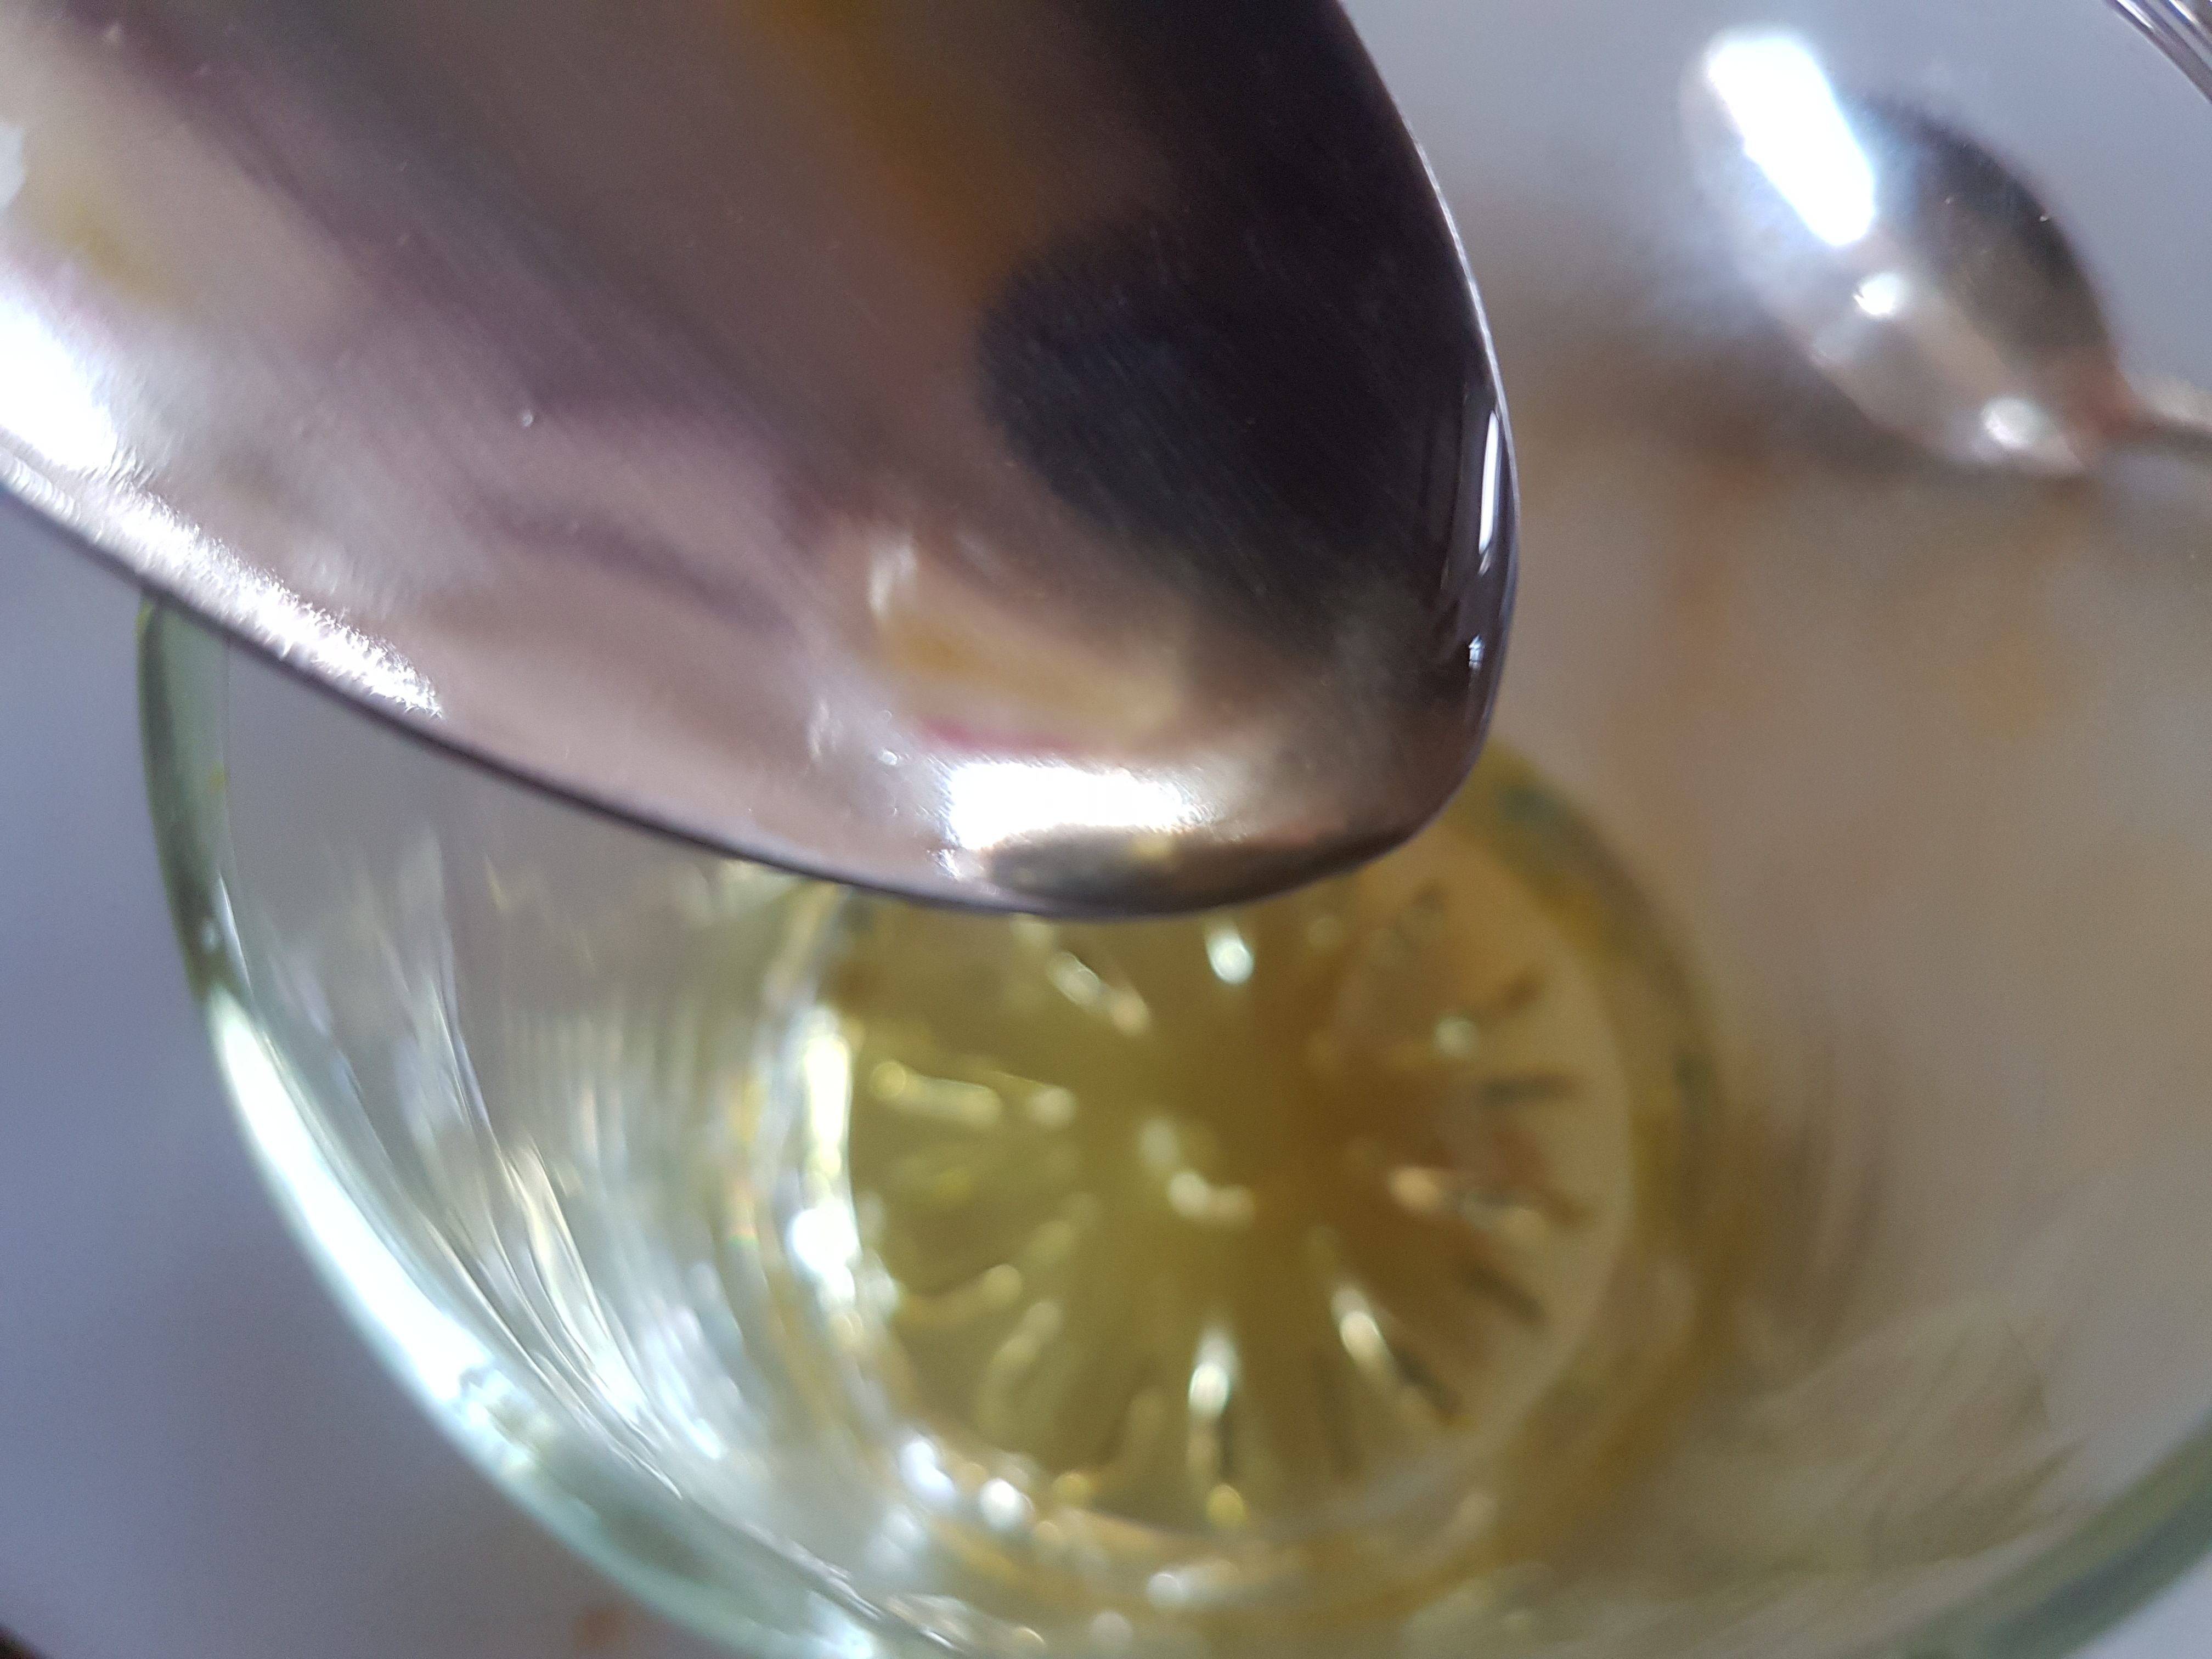Olive oil: (644, 321, 1895, 1659)
